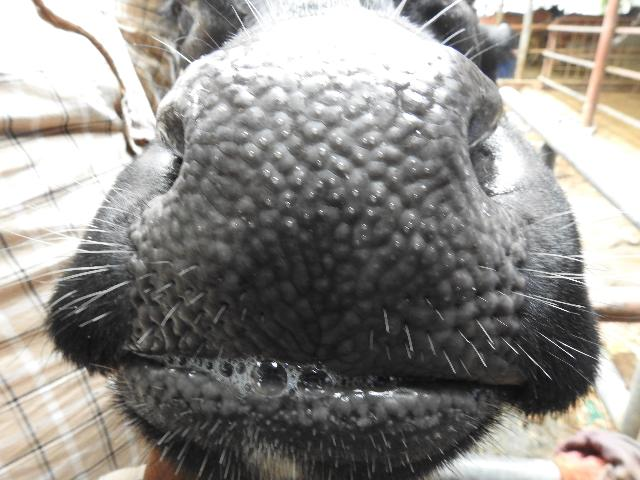Muzzle: (170, 63, 498, 367)
